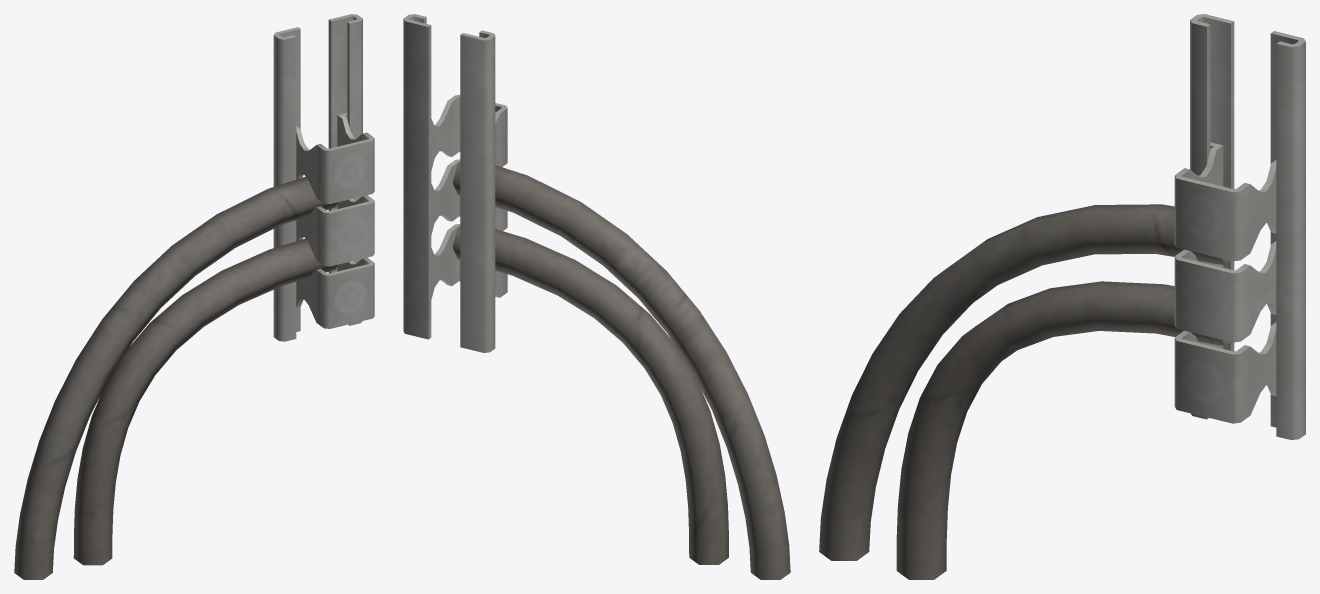
The model's file is cable_double_alt_turn.glb.
3 renders of one model, left to right at view 1: azimuth 30°, elevation 25°; view 2: azimuth 150°, elevation 25°; view 3: azimuth 330°, elevation 25°, orthographic. The views are drawn at different scales.
Visible parts, largest first — view 1: cable_double_alt_turn.001; view 2: cable_double_alt_turn.001; view 3: cable_double_alt_turn.001.
Part boxes in pixels (box(x1,y1,x2,y2)): cable_double_alt_turn.001: box(14, 14, 374, 579); cable_double_alt_turn.001: box(403, 14, 790, 579); cable_double_alt_turn.001: box(819, 14, 1305, 579).
Bounding box in the file's own units: 0.1189 × 0.149 × 0.0221.
1 material, 1 textured.
